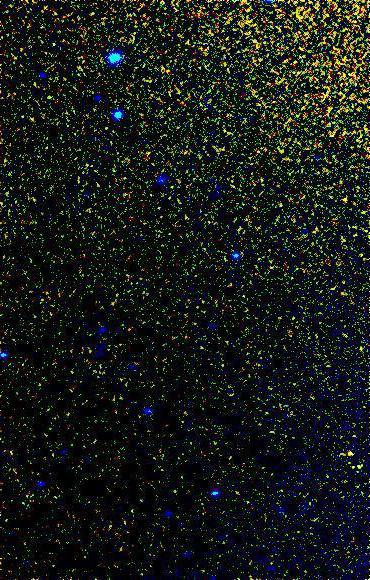star: (336, 434, 366, 464)
